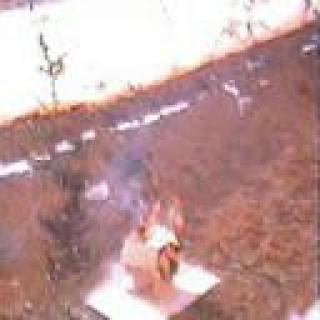fire: (112, 157, 190, 305)
